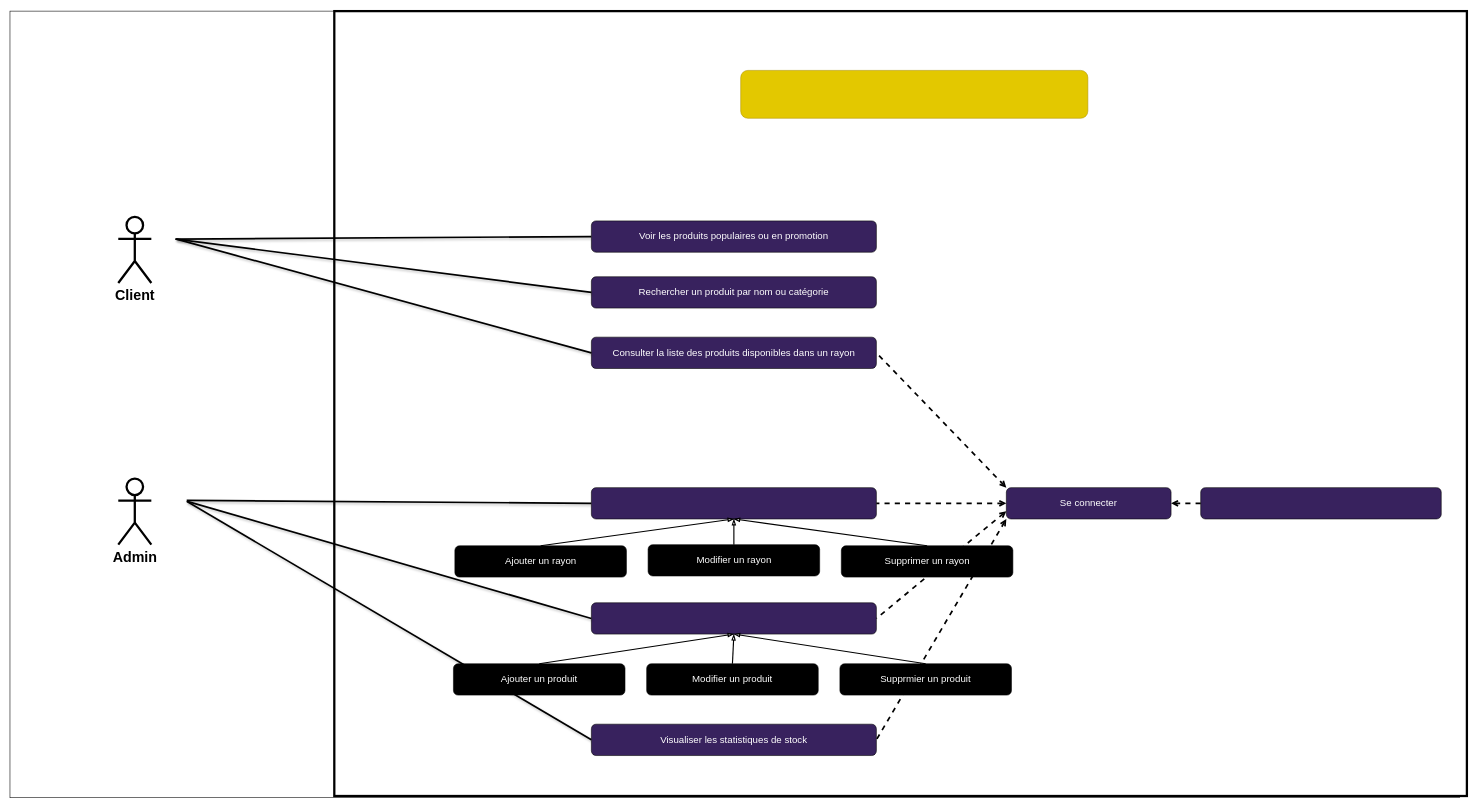
This 1478x808 diagram has some shape labels left out. The shapes that lost their labels are listed below. From the top down, each one's centre as x and y in pixels, then its label:
At [914,94]: "SmartShelf".
At [733,503]: "Gérer les rayons".
At [1320,503]: "Se connecter via Google et Facebook".
At [733,618]: "Gérer les produits".
